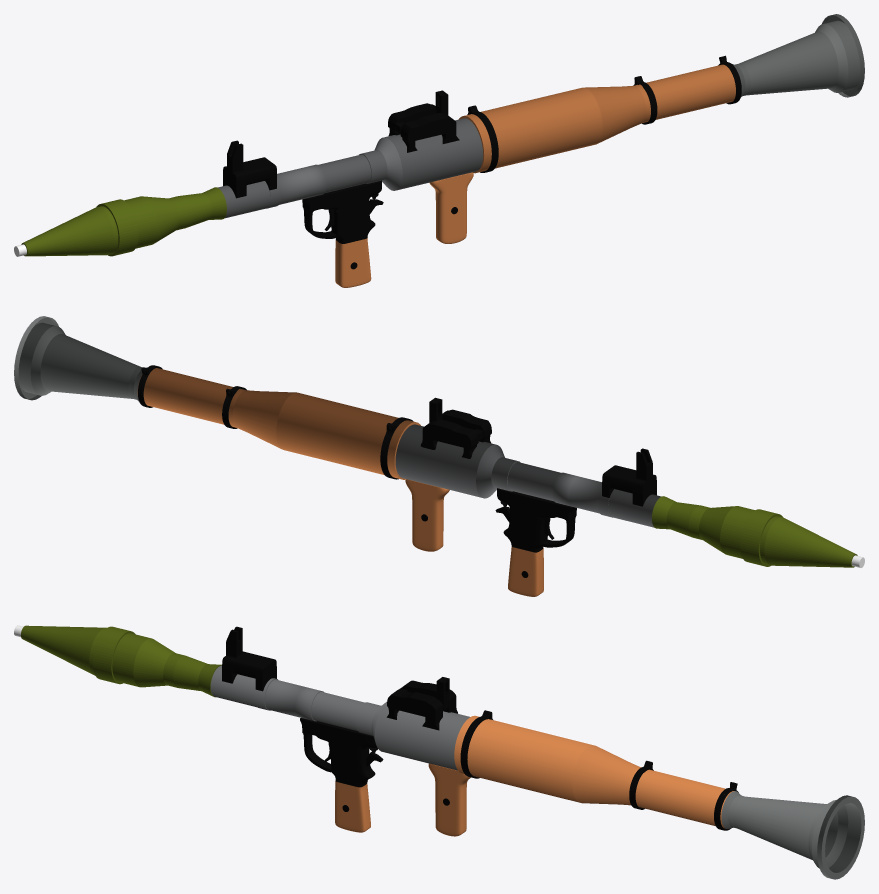
File: RPG.fbx
The picture shows the model from 3 angles, top to bottom: view 1: azimuth 30°, elevation 25°; view 2: azimuth 150°, elevation 25°; view 3: azimuth 330°, elevation 25°; orthographic projection.
Parts seen in each view (by area): view 1: Cylinder, Cylinder.001, Cylinder.003, Cube, Cube.001, Cube.002; view 2: Cylinder, Cylinder.001, Cylinder.003, Cube, Cube.001, Cube.002; view 3: Cylinder, Cylinder.001, Cylinder.003, Cube, Cube.001, Cube.002.
Boxes of the visible parts, left/top/right/bottom form: Cylinder: left=458, top=14, right=864, bottom=173; Cylinder.001: left=218, top=118, right=483, bottom=218; Cylinder.003: left=14, top=187, right=226, bottom=256; Cube: left=302, top=172, right=473, bottom=287; Cube.001: left=223, top=55, right=741, bottom=198; Cube.002: left=388, top=103, right=459, bottom=152; Cylinder: left=14, top=316, right=420, bottom=479; Cylinder.001: left=395, top=424, right=660, bottom=527; Cylinder.003: left=652, top=496, right=864, bottom=567; Cube: left=405, top=479, right=576, bottom=596; Cube.001: left=138, top=365, right=656, bottom=506; Cube.002: left=420, top=409, right=491, bottom=458; Cylinder: left=454, top=715, right=864, bottom=879; Cylinder.001: left=210, top=665, right=470, bottom=770; Cylinder.003: left=14, top=625, right=221, bottom=697; Cube: left=300, top=718, right=470, bottom=836; Cube.001: left=222, top=626, right=738, bottom=830; Cube.002: left=386, top=680, right=457, bottom=730.
Bounding box in the file's own units: 7.19 × 1.41 × 0.6391.
